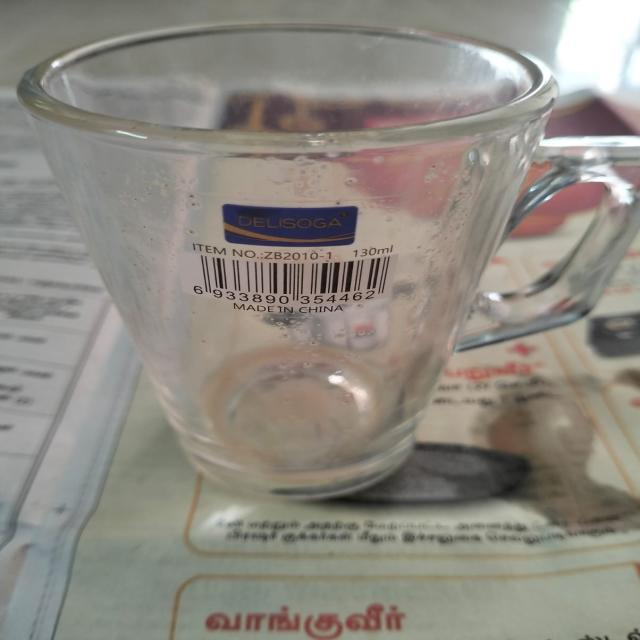glass-VX4N: (17, 19, 556, 498), (39, 544, 40, 572)
